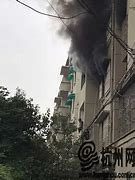smoke: (51, 1, 107, 78)
